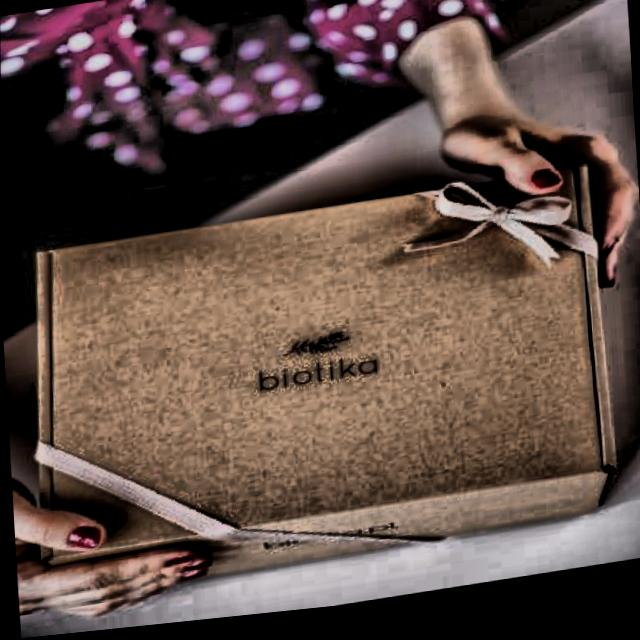Cardbox: (15, 149, 621, 639)
